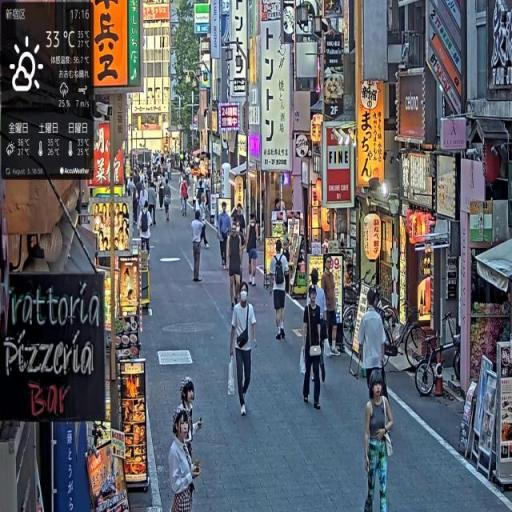person: (365, 374, 396, 512), (229, 283, 259, 420), (169, 407, 203, 512), (301, 284, 328, 411), (358, 290, 388, 399), (268, 239, 289, 340), (323, 260, 340, 357), (227, 221, 245, 311), (245, 211, 260, 287), (192, 209, 207, 285), (218, 203, 233, 272), (140, 202, 153, 255), (180, 176, 190, 218), (164, 180, 173, 224)
